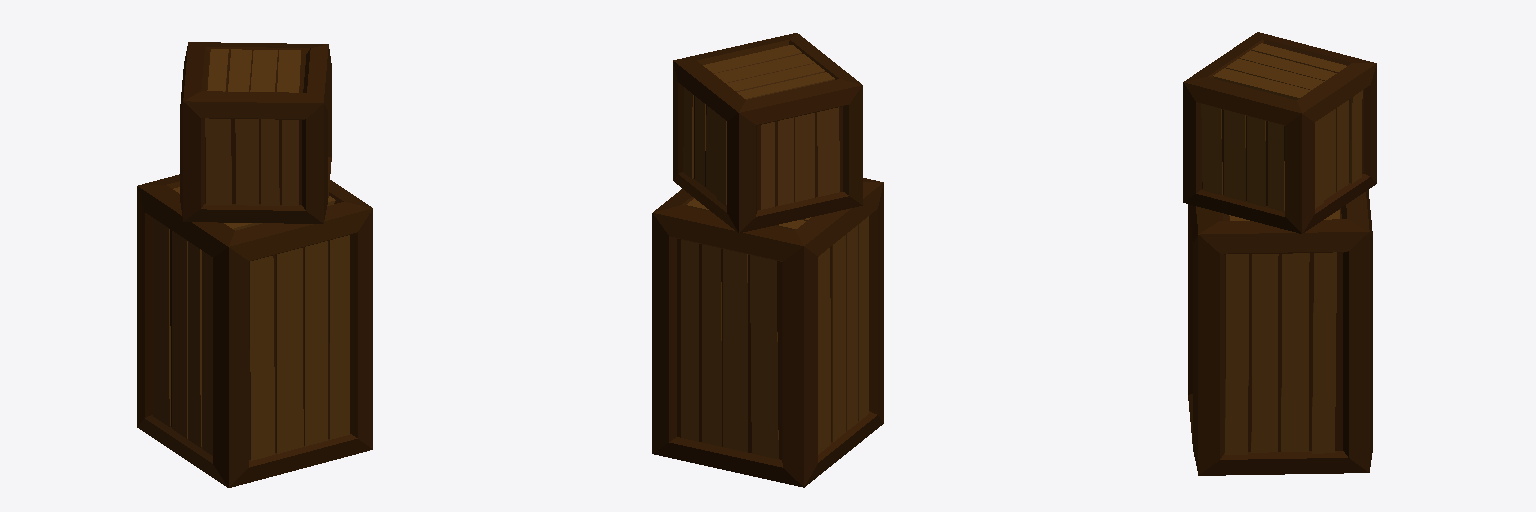
The model's file is Crate_Stack2_Cube.obj.
3 renders of one model, left to right at view 1: azimuth 30°, elevation 25°; view 2: azimuth 150°, elevation 25°; view 3: azimuth 270°, elevation 25°, orthographic.
Parts seen in each view (by area): view 1: Crate_Stack2_Cube.202; view 2: Crate_Stack2_Cube.202; view 3: Crate_Stack2_Cube.202.
Part boxes in pixels (x1,y1,x2,y2): Crate_Stack2_Cube.202: (137, 42, 372, 487); Crate_Stack2_Cube.202: (652, 33, 883, 487); Crate_Stack2_Cube.202: (1183, 32, 1376, 475).
Bounding box in the file's own units: 0.1198 × 0.2543 × 0.1198.